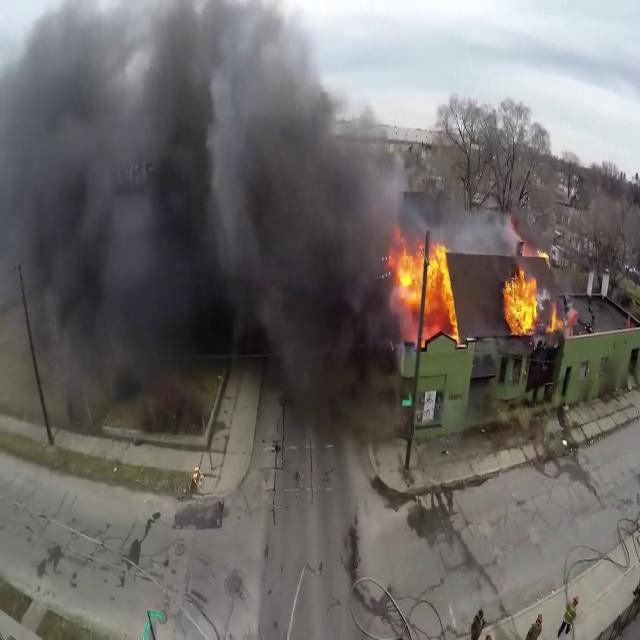Fire: (388, 228, 462, 342), (499, 255, 557, 338)
Smoke: (0, 0, 405, 417)
